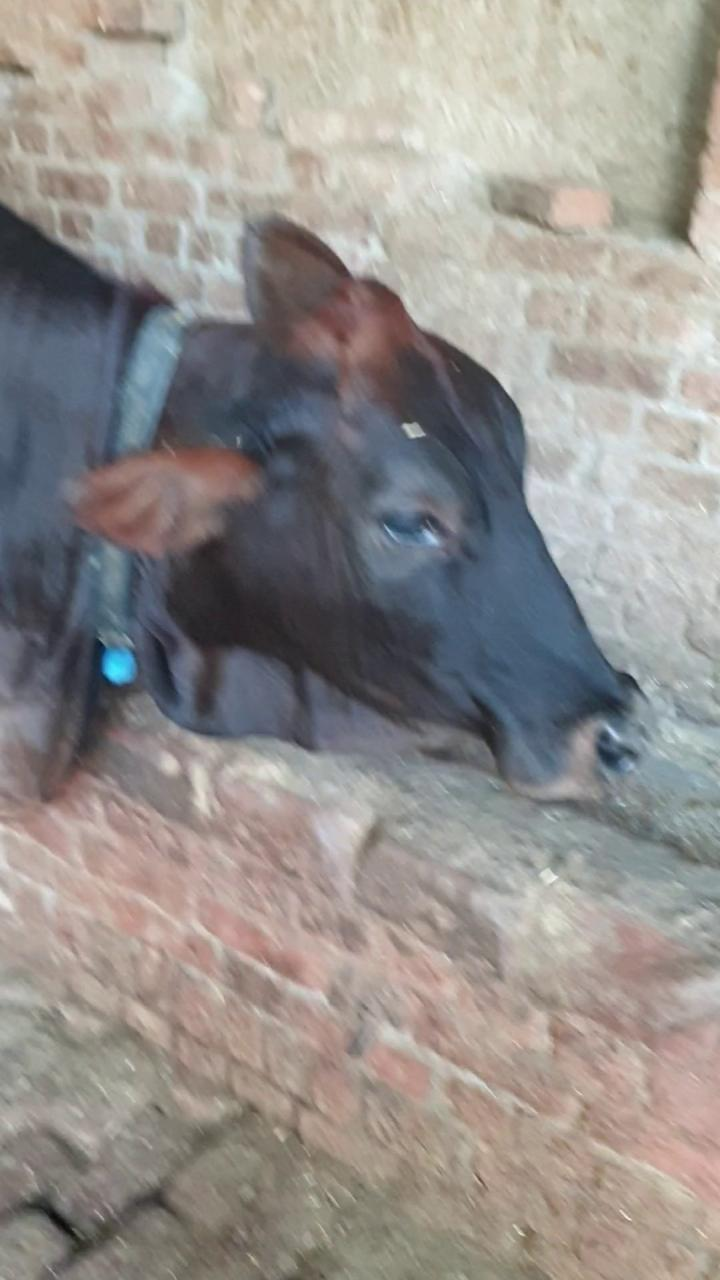cows: (280, 257, 658, 828)
